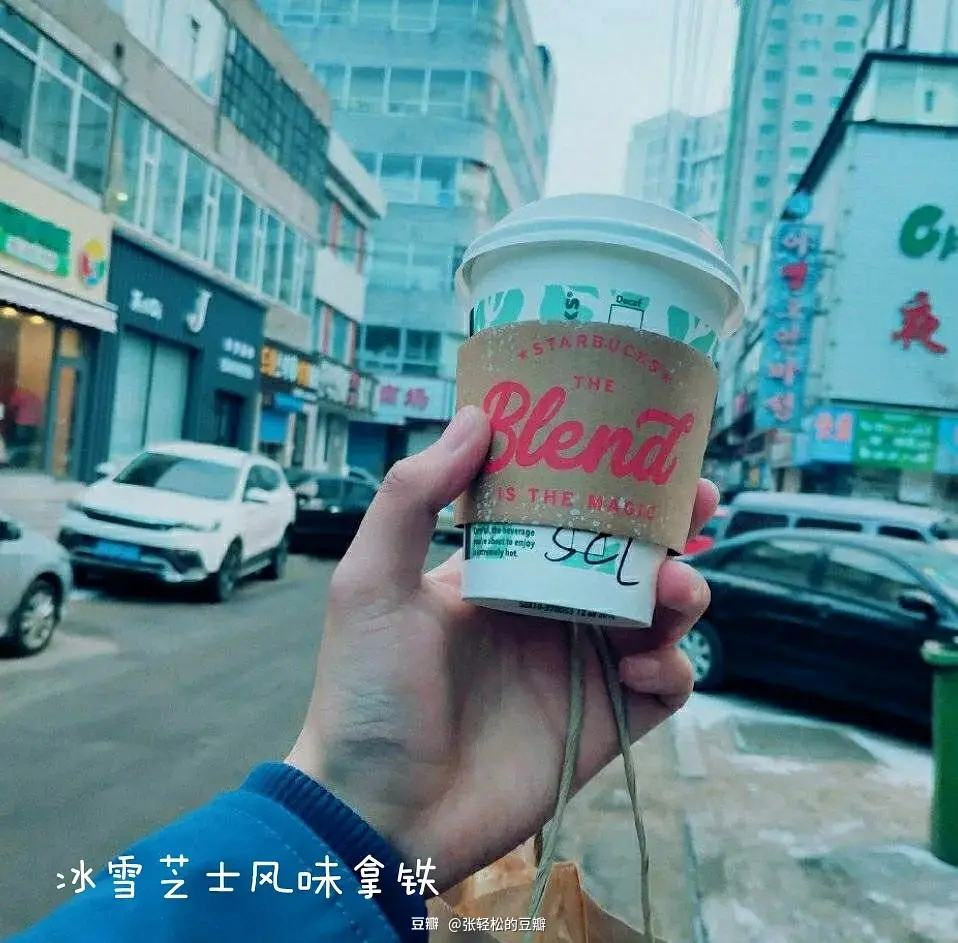no-phone: (283, 185, 747, 891)
